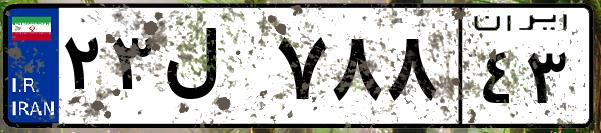2: (57, 26, 110, 100)
3: (525, 38, 570, 115), (110, 28, 158, 98)
4: (475, 38, 525, 113)
7: (270, 28, 330, 110)
8: (385, 28, 445, 110), (330, 28, 385, 110)
ل: (158, 20, 270, 120)
